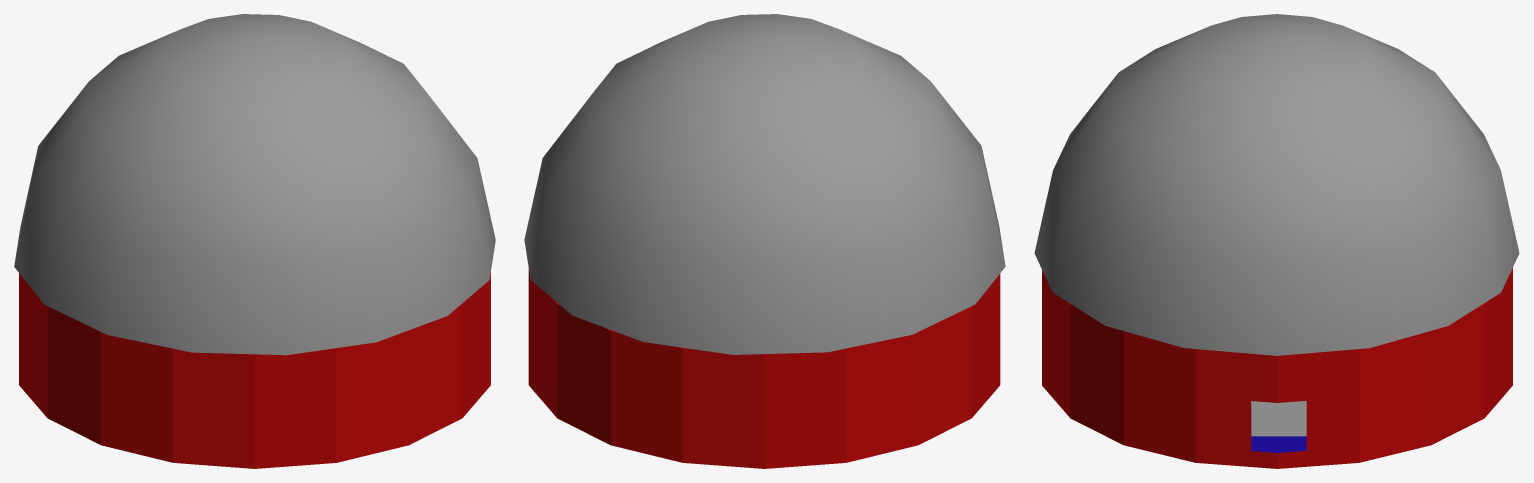
The model's file is FYP_TempleArena_Textured.FBX.
3 views of the same model, side by side, from view 1: azimuth 30°, elevation 25°; view 2: azimuth 150°, elevation 25°; view 3: azimuth 270°, elevation 25° (orthographic).
Parts seen in each view (by area): view 1: TempleArenaCeiling, Arena; view 2: TempleArenaCeiling, Arena; view 3: TempleArenaCeiling, Arena, InnerCarpet.
Part boxes in pixels (x1,y1,x2,y2): TempleArenaCeiling: [14, 14, 495, 355]; Arena: [19, 272, 490, 468]; TempleArenaCeiling: [524, 14, 1005, 354]; Arena: [528, 269, 1000, 468]; TempleArenaCeiling: [1034, 14, 1519, 355]; Arena: [1042, 268, 1512, 468]; InnerCarpet: [1251, 401, 1306, 436].
Bounding box in the file's own units: 110 × 82.49 × 110.
